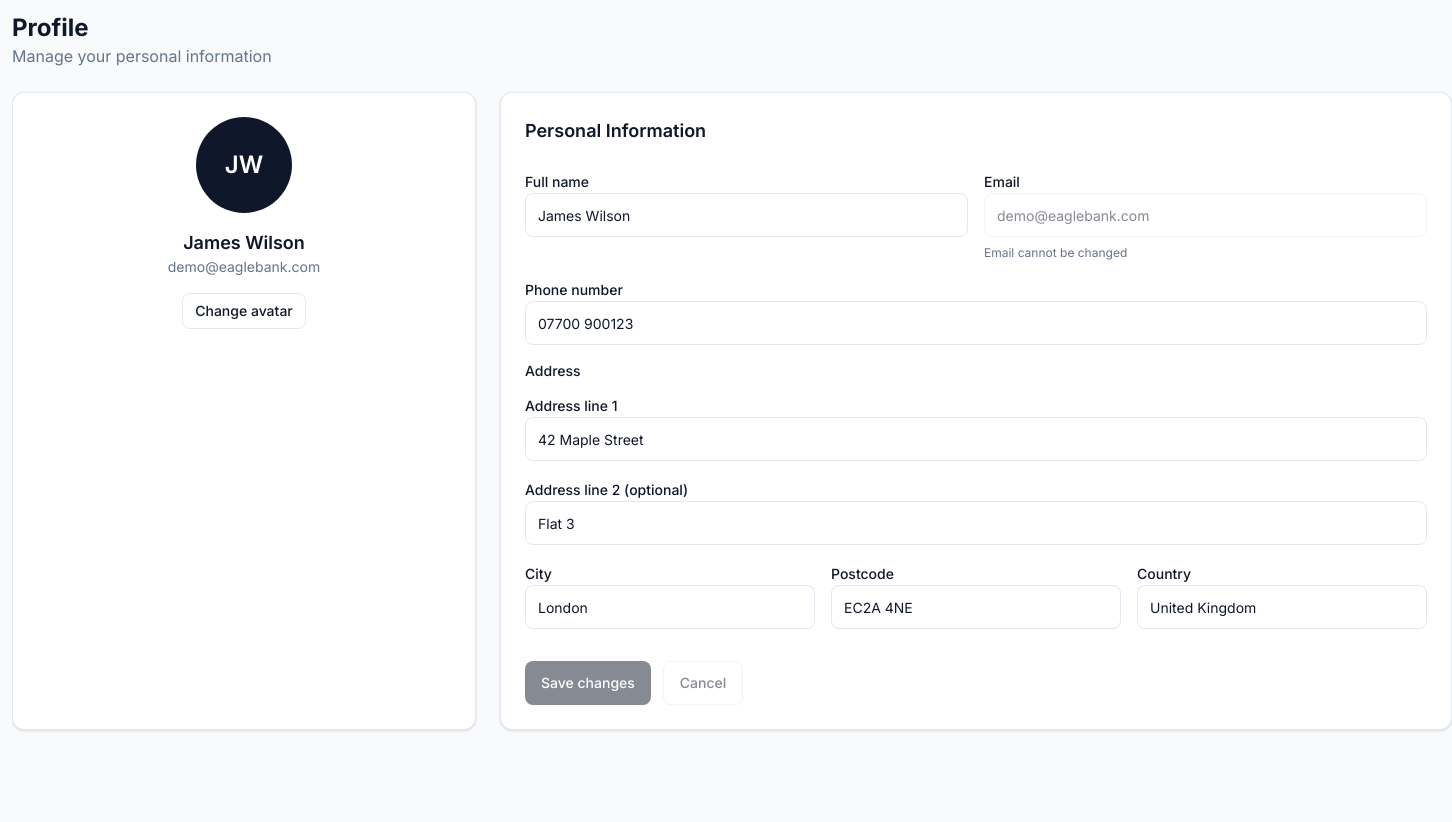
it: ProfilePage › shows validation error when name is cleared
Clear the field labelled "Full name" at {"x": 746, "y": 215}, box [525,193,968,237]
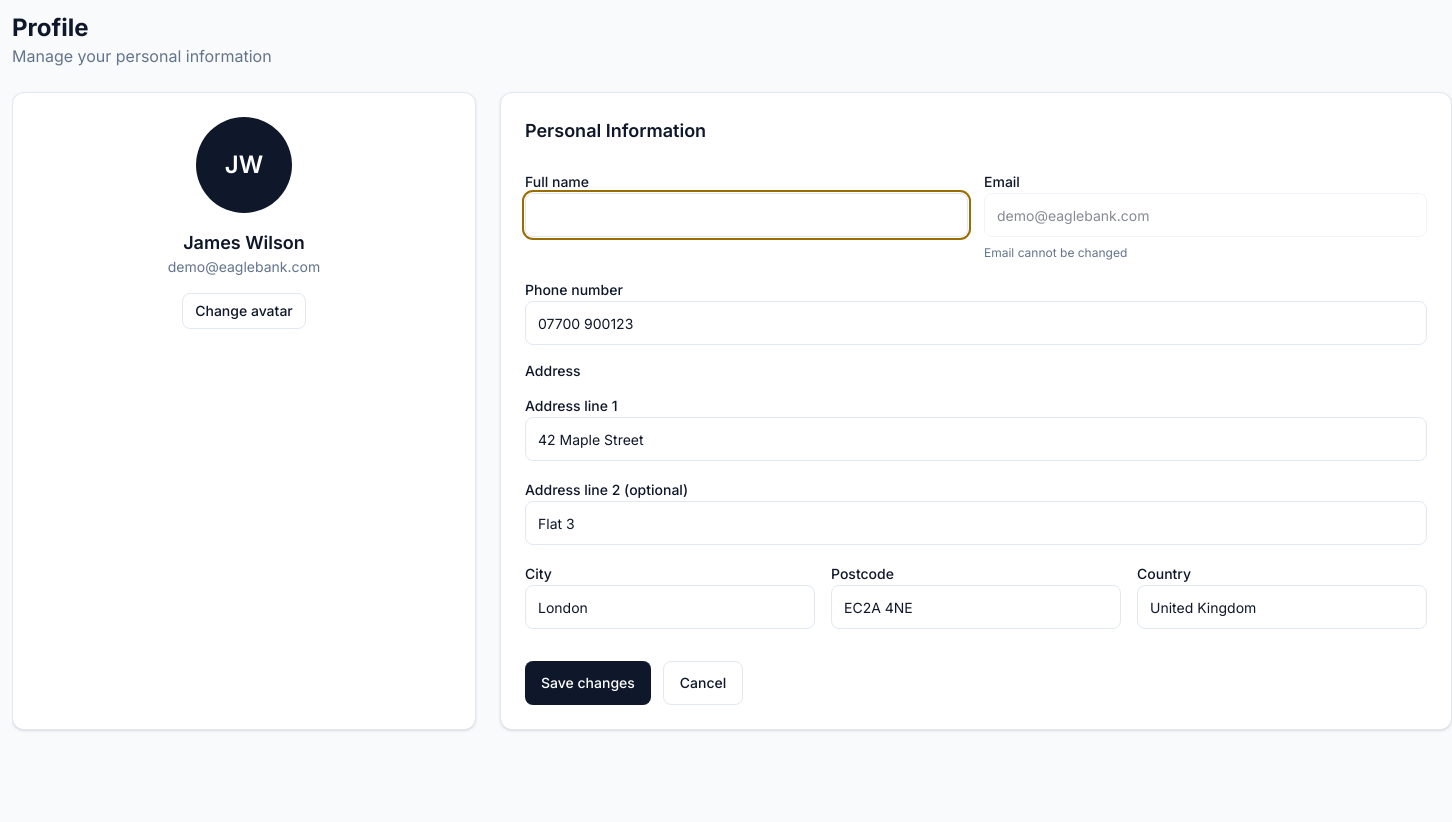
Click the button "Save changes".
click(588, 683)  # box [525,661,651,705]
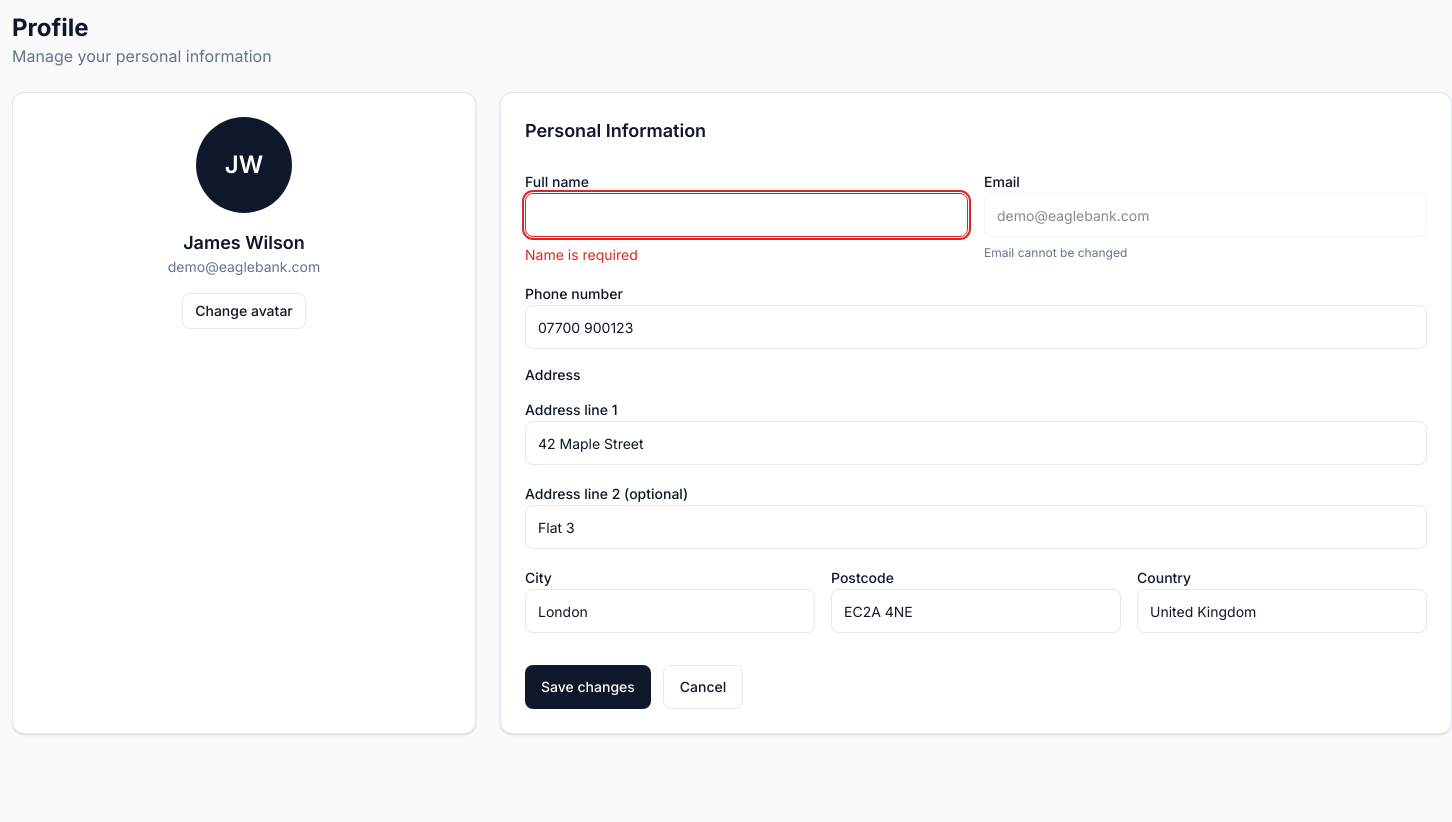
Expected: the text "Name is required" is shown, [525,246,638,263]
